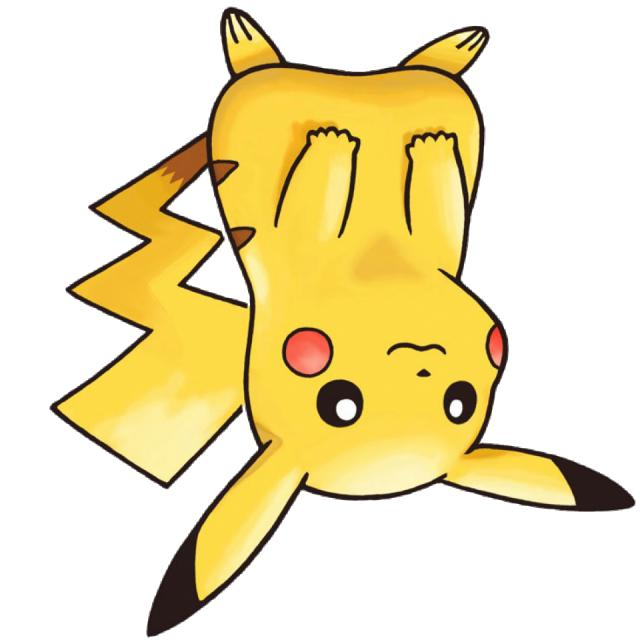Pikachu: (0, 0, 640, 638), (588, 574, 640, 590)
